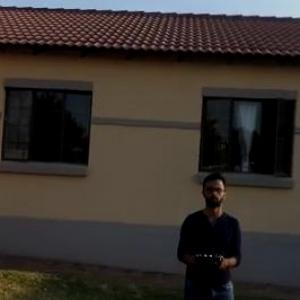follow: (174, 167, 249, 299)
